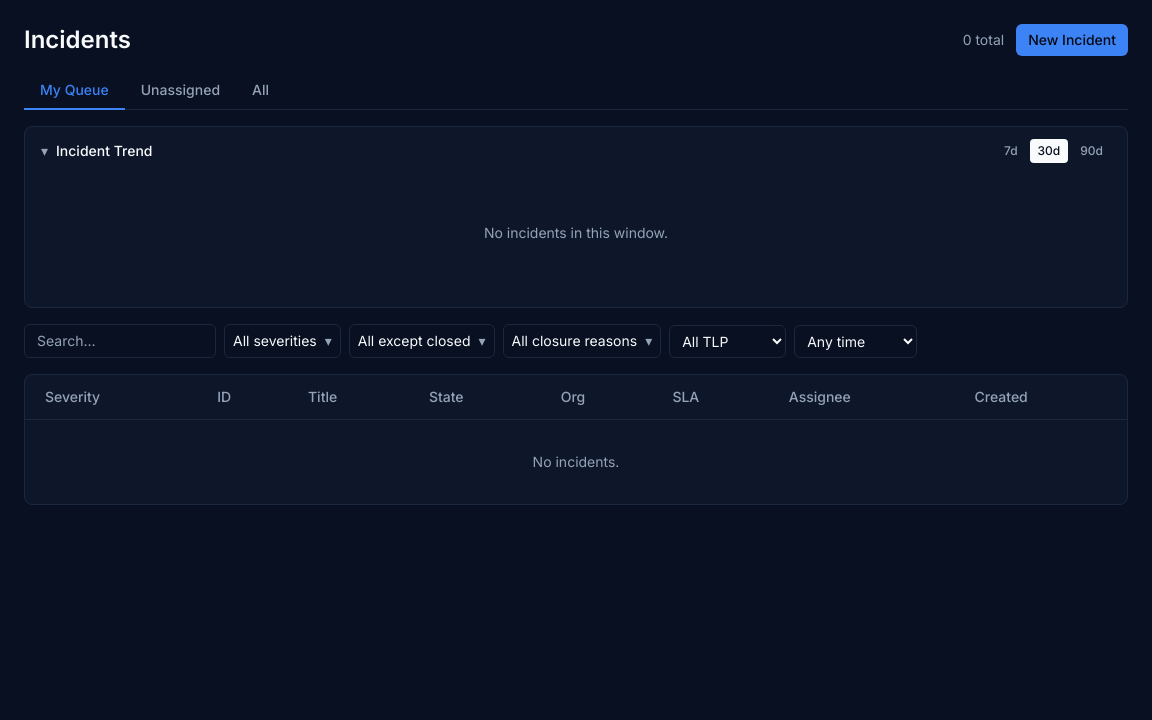
IncidentList › selecting a severity re-fetches with severity param
The image size is (1152, 720).
What coordinates should you click on to do the following:
click the button with aria-label "Severity filter"
I would click on:
 (282, 341)
Its box is left=224, top=324, right=341, bottom=358.
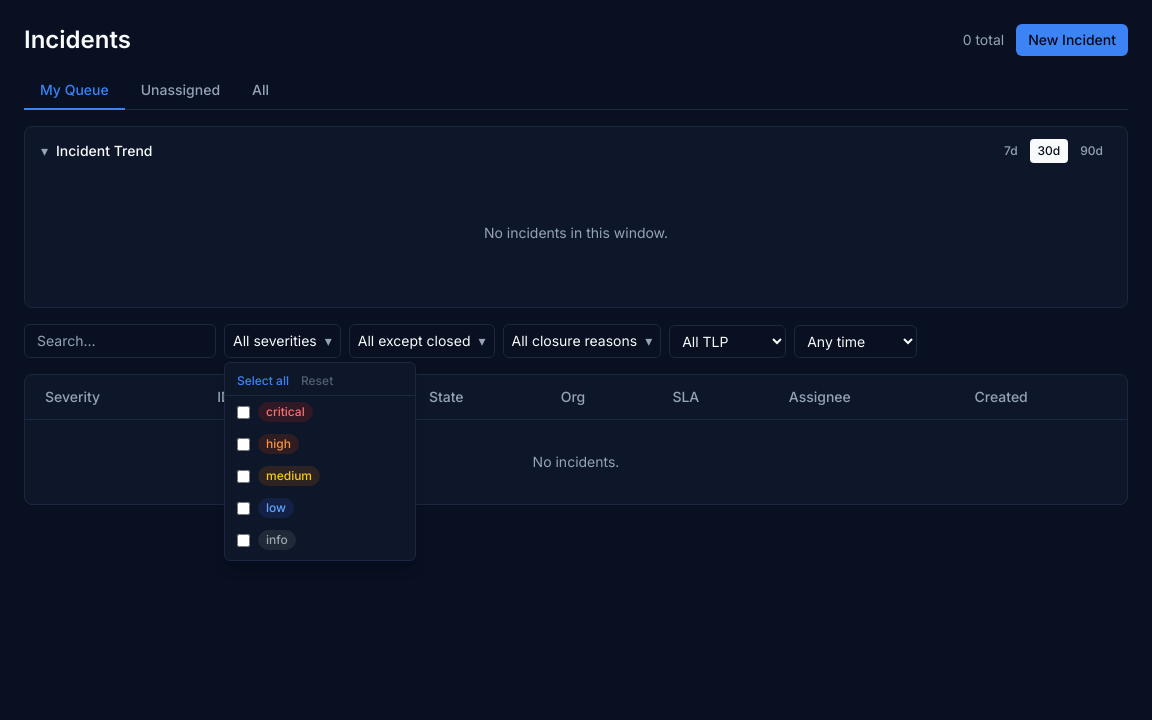
What coordinates should you click on to do the following:
click the checkbox labelled "critical"
I would click on:
 (244, 412)
Its box is left=237, top=406, right=250, bottom=418.
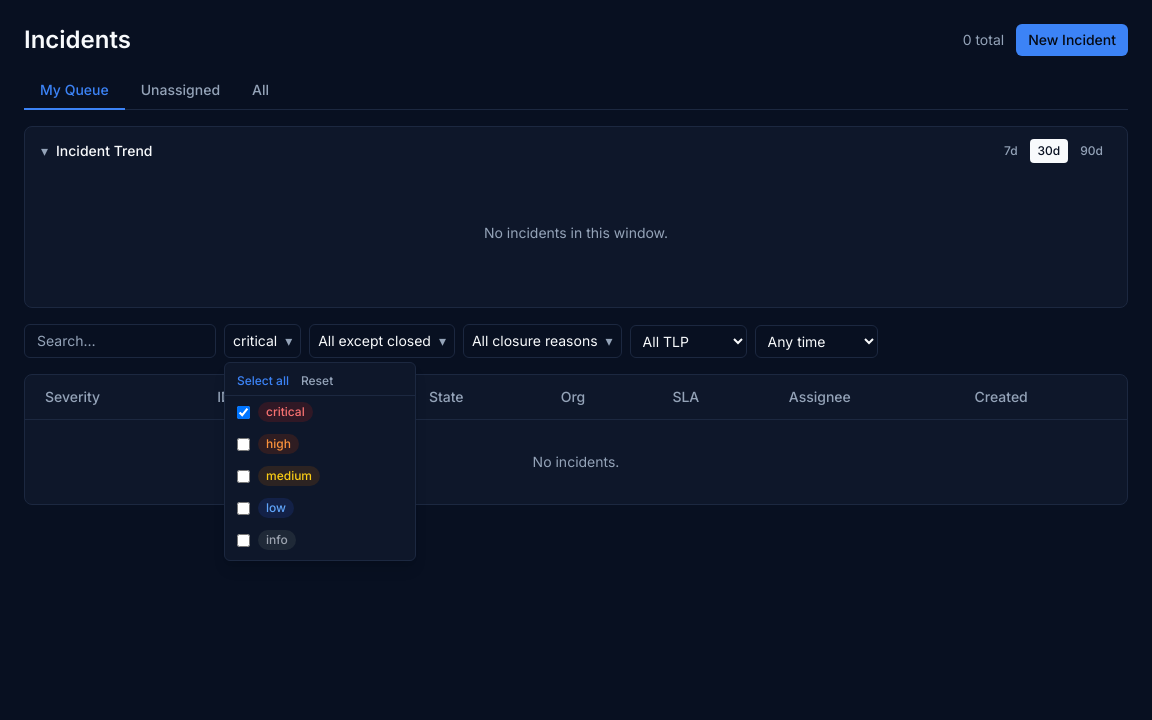
Check: the 1st text "critical" is shown, box left=233, top=331, right=277, bottom=351
